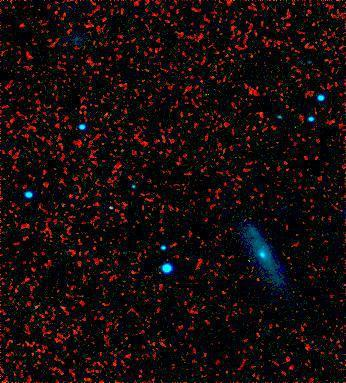star: (268, 255, 298, 285)
